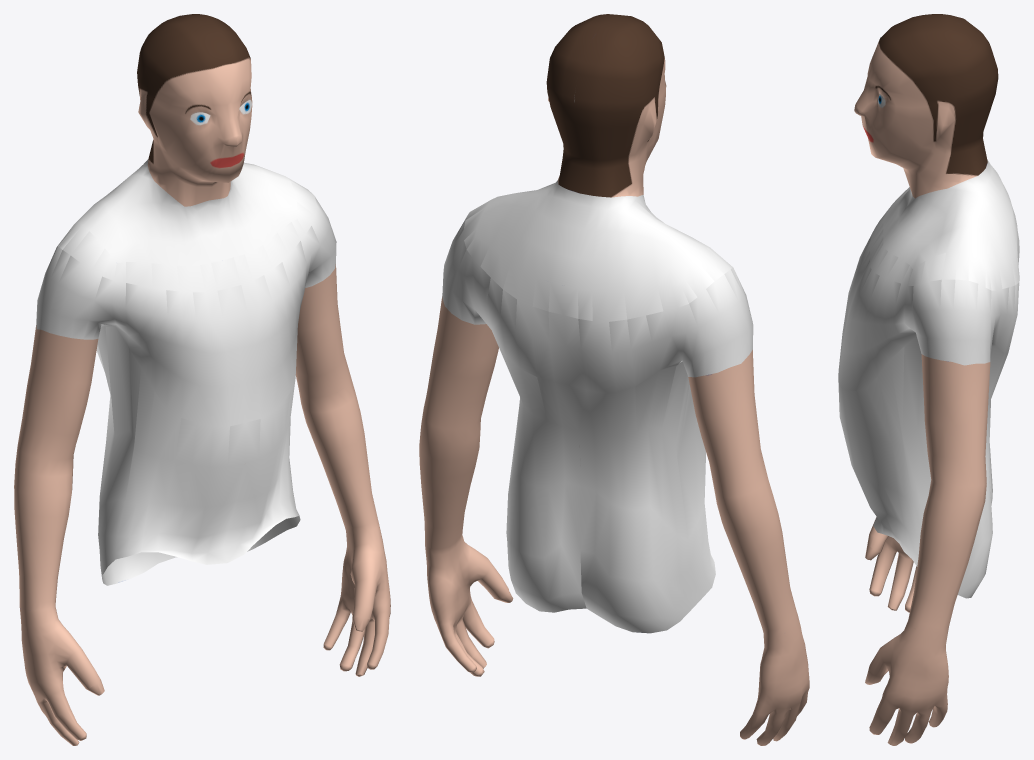
File: adam_2_model_bacaksiz.fbx
3 renders of one model, left to right at view 1: azimuth 30°, elevation 25°; view 2: azimuth 150°, elevation 25°; view 3: azimuth 270°, elevation 25°, orthographic. The views are drawn at different scales.
Visible parts, largest first — view 1: polySurface1; view 2: polySurface1; view 3: polySurface1.
Boxes of the visible parts, x1,y1,x2,y2 form: polySurface1: (14,14,390,745); polySurface1: (419,14,809,745); polySurface1: (838,14,1019,745).
Bounding box in the file's own units: 8.04 × 14.64 × 3.65.
